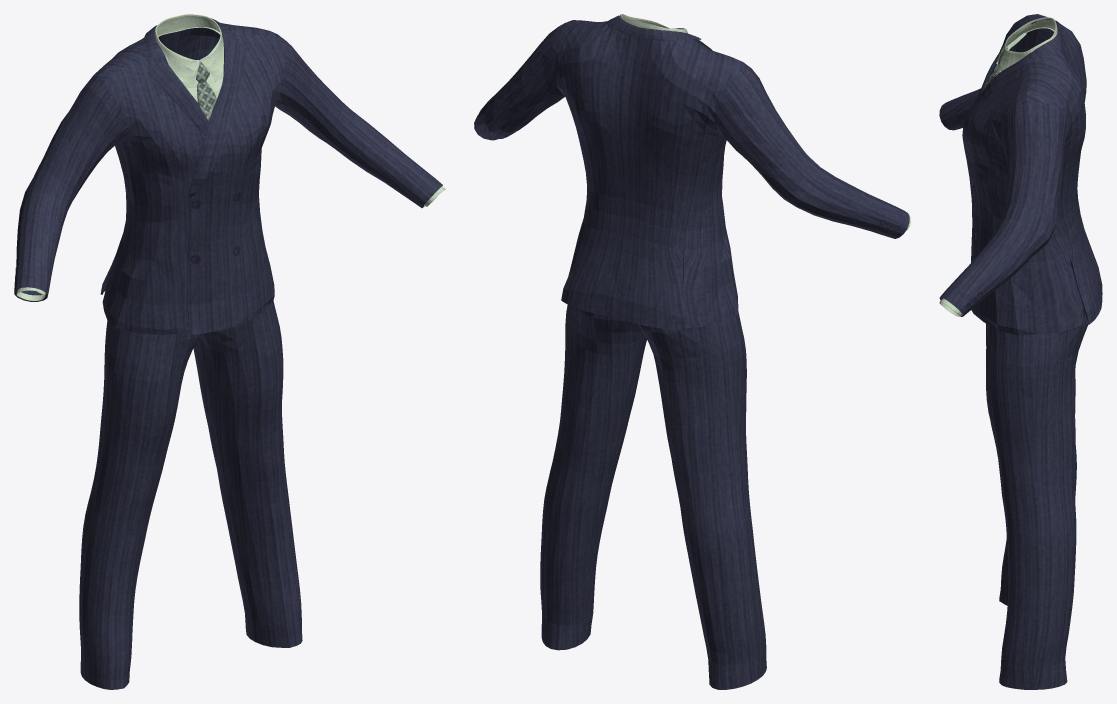
Rendered from mhw_toigo_male_double-breasted_suit.glb.
3 views of the same model, side by side, from view 1: azimuth 30°, elevation 25°; view 2: azimuth 150°, elevation 25°; view 3: azimuth 270°, elevation 25° (orthographic). The views are drawn at different scales.
Parts seen in each view (by area): view 1: mhw_toigo_male_double-breasted_suit; view 2: mhw_toigo_male_double-breasted_suit; view 3: mhw_toigo_male_double-breasted_suit.
Boxes of the visible parts, bbox=[...] form: mhw_toigo_male_double-breasted_suit: bbox=[14, 14, 445, 689]; mhw_toigo_male_double-breasted_suit: bbox=[474, 14, 910, 689]; mhw_toigo_male_double-breasted_suit: bbox=[939, 14, 1102, 689].
Bounding box in the file's own units: 1.09 × 1.55 × 0.3704.
1 material, 1 textured.
